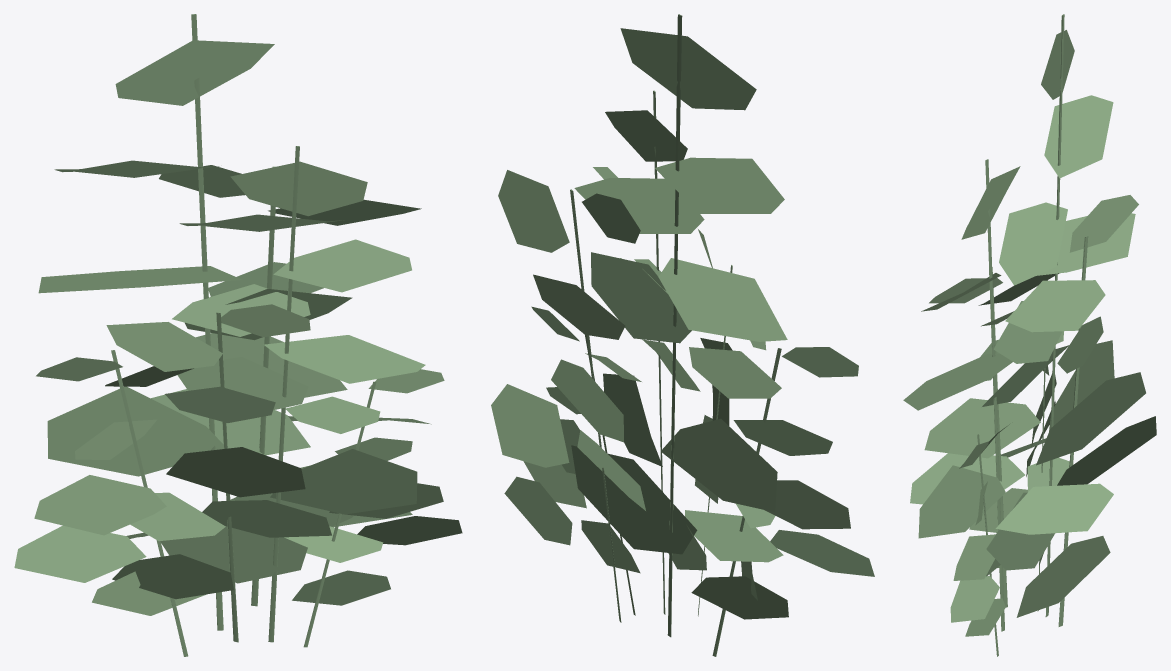
File: coral-plant.obj
The picture shows the model from 3 angles, left to right: view 1: azimuth 30°, elevation 25°; view 2: azimuth 150°, elevation 25°; view 3: azimuth 270°, elevation 25°; orthographic projection. The views are drawn at different scales.
Parts seen in each view (by area): view 1: Merged_Meshes1; view 2: Merged_Meshes1; view 3: Merged_Meshes1.
Boxes of the visible parts, left/top/right/bottom form: Merged_Meshes1: left=14, top=14, right=462, bottom=656; Merged_Meshes1: left=491, top=14, right=874, bottom=656; Merged_Meshes1: left=903, top=14, right=1156, bottom=656.
Size of the model in its own units: 1.81 by 2.74 by 1.04.
